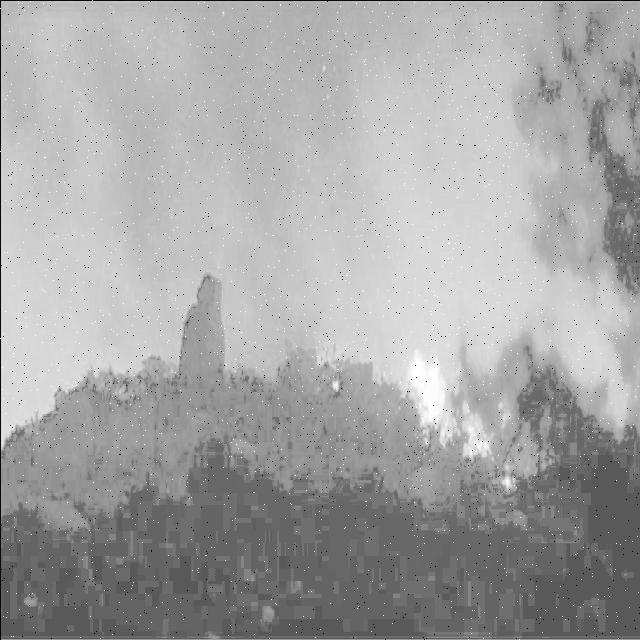api: (396, 338, 454, 451), (456, 412, 495, 460), (500, 469, 517, 496)
